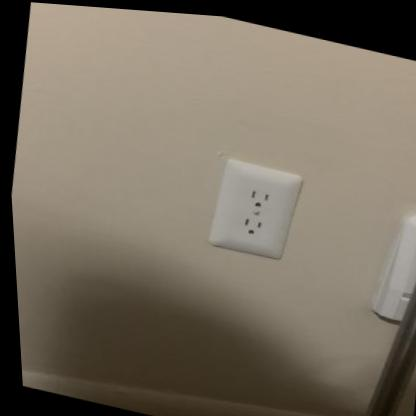OUTLET: (203, 153, 301, 264)
